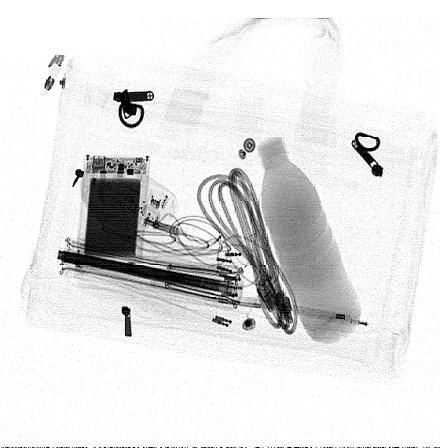Powerbank: (75, 152, 151, 261)
